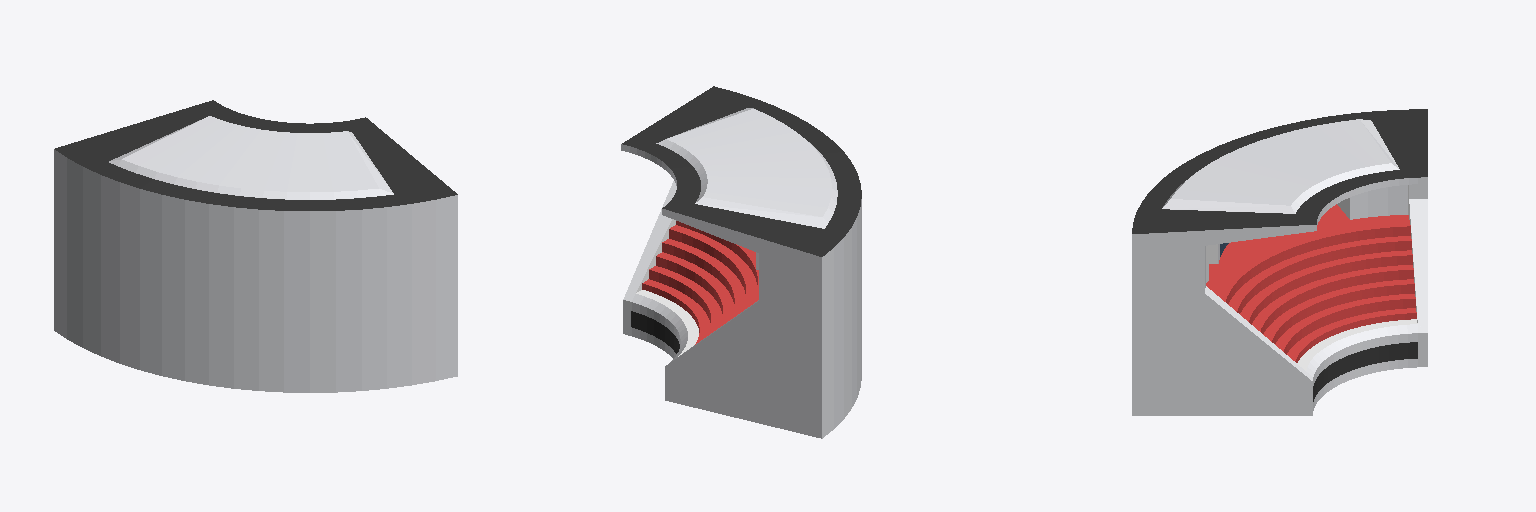
The model's file is grandStandCoveredRound.obj.
3 views of the same model, side by side, from view 1: azimuth 30°, elevation 25°; view 2: azimuth 150°, elevation 25°; view 3: azimuth 270°, elevation 25° (orthographic).
Visible parts, largest first — view 1: grandStandCoveredRound; view 2: grandStandCoveredRound; view 3: grandStandCoveredRound.
Boxes of the visible parts, box(x1,y1,x2,y2) form: grandStandCoveredRound: box(54, 100, 457, 392); grandStandCoveredRound: box(621, 86, 861, 438); grandStandCoveredRound: box(1132, 109, 1427, 415).
Size of the model in its own units: 1.64 by 1.19 by 1.64.